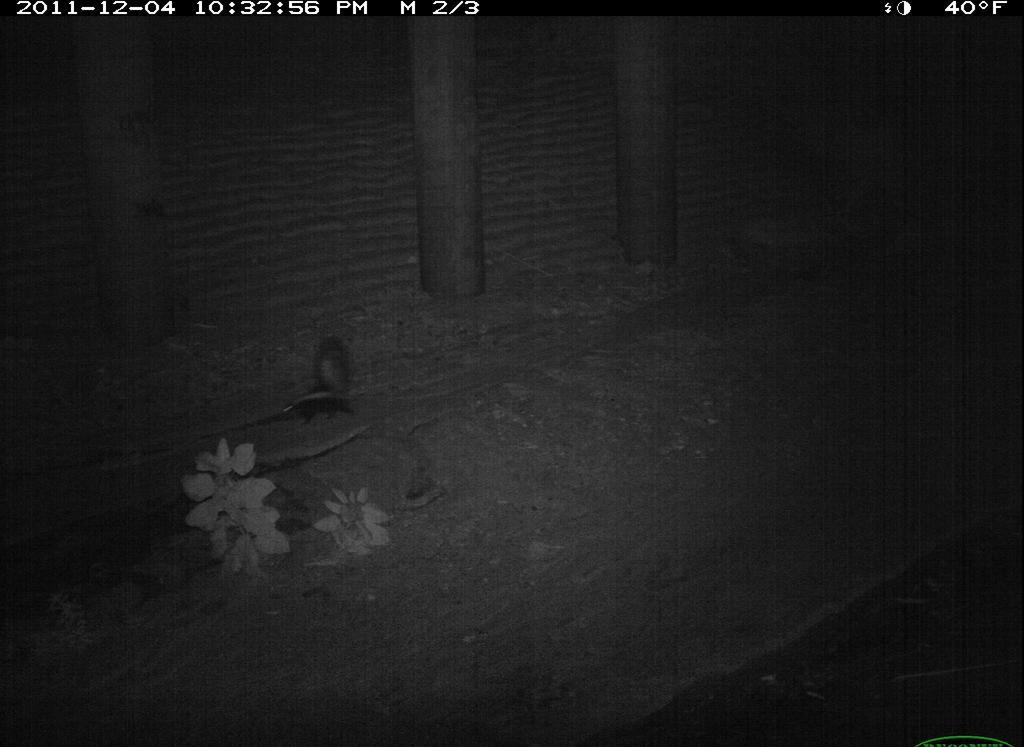skunk: (547, 656, 727, 747)
